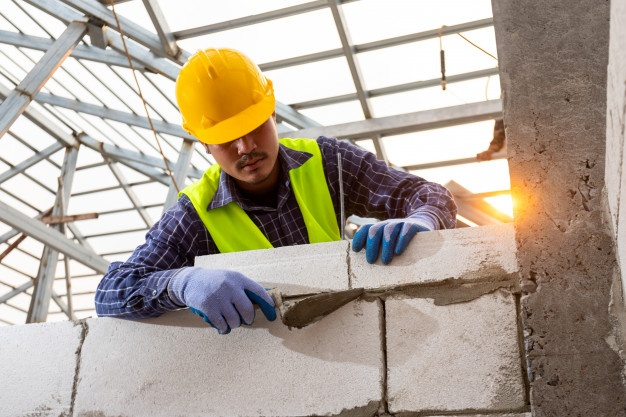casco: (173, 46, 277, 146)
